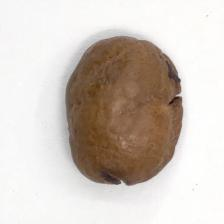NG: (158, 47, 185, 147), (96, 169, 143, 189)
